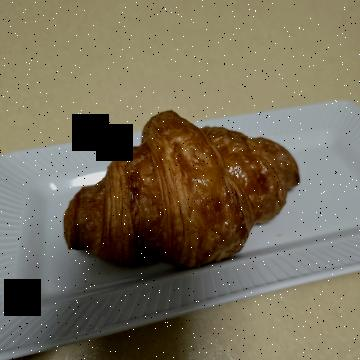croissant: (104, 55, 282, 308)
